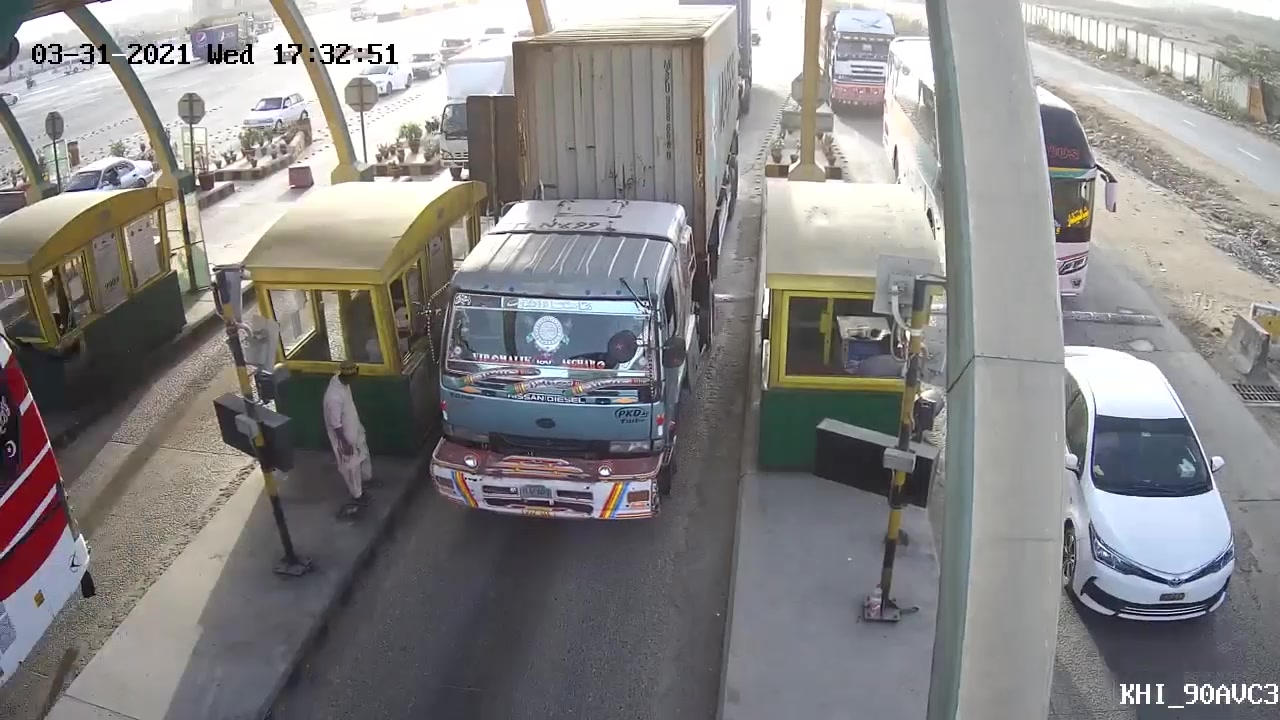F6: (424, 1, 748, 538)
